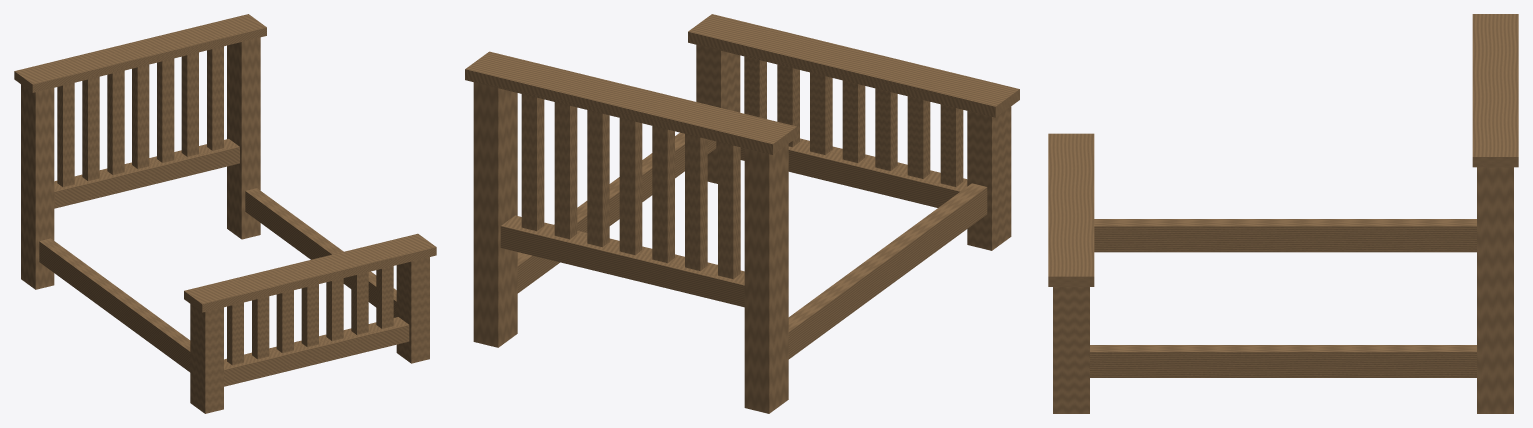
The picture shows the model from 3 angles, left to right: view 1: azimuth 30°, elevation 25°; view 2: azimuth 150°, elevation 25°; view 3: azimuth 270°, elevation 25°; orthographic projection. The views are drawn at different scales.
Parts seen in each view (by area): view 1: 14 footboard_top_cap, 3 headboard_top_cap, 1 headboard_left_post, 2 headboard_right_post, 23 left_side_rail, 4 headboard_bottom_rail, 15 footboard_bottom_rail, 12 footboard_left_post, 24 right_side_rail, 13 footboard_right_post, 7 headboard_slat_3, 9 headboard_slat_5 (+12 smaller); view 2: 1 headboard_left_post, 14 footboard_top_cap, 3 headboard_top_cap, 2 headboard_right_post, 23 left_side_rail, 4 headboard_bottom_rail, 12 footboard_left_post, 15 footboard_bottom_rail, 8 headboard_slat_4, 11 headboard_slat_7, 10 headboard_slat_6, 7 headboard_slat_3 (+12 smaller); view 3: 23 left_side_rail, 24 right_side_rail, 2 headboard_right_post, 3 headboard_top_cap, 14 footboard_top_cap, 13 footboard_right_post.
Boxes of the visible parts, x1=… form: 14 footboard_top_cap: x1=184, y1=233, x2=436, y2=312; 3 headboard_top_cap: x1=14, y1=14, x2=266, y2=92; 1 headboard_left_post: x1=21, y1=84, x2=54, y2=289; 2 headboard_right_post: x1=227, y1=37, x2=260, y2=239; 23 left_side_rail: x1=39, y1=238, x2=190, y2=372; 4 headboard_bottom_rail: x1=54, y1=139, x2=239, y2=208; 15 footboard_bottom_rail: x1=224, y1=317, x2=409, y2=386; 12 footboard_left_post: x1=190, y1=304, x2=223, y2=413; 24 right_side_rail: x1=245, y1=188, x2=396, y2=317; 13 footboard_right_post: x1=396, y1=257, x2=429, y2=363; 7 headboard_slat_3: x1=107, y1=70, x2=124, y2=174; 9 headboard_slat_5: x1=157, y1=58, x2=174, y2=162; 1 headboard_left_post: x1=744, y1=144, x2=788, y2=413; 14 footboard_top_cap: x1=688, y1=14, x2=1019, y2=117; 3 headboard_top_cap: x1=465, y1=51, x2=796, y2=154; 2 headboard_right_post: x1=473, y1=82, x2=517, y2=347; 23 left_side_rail: x1=788, y1=183, x2=987, y2=359; 4 headboard_bottom_rail: x1=500, y1=215, x2=744, y2=307; 12 footboard_left_post: x1=967, y1=106, x2=1011, y2=250; 15 footboard_bottom_rail: x1=740, y1=138, x2=967, y2=207; 8 headboard_slat_4: x1=619, y1=118, x2=642, y2=254; 11 headboard_slat_7: x1=521, y1=94, x2=544, y2=231; 10 headboard_slat_6: x1=554, y1=102, x2=577, y2=239; 7 headboard_slat_3: x1=652, y1=126, x2=674, y2=263; 23 left_side_rail: x1=1094, y1=219, x2=1476, y2=252; 24 right_side_rail: x1=1090, y1=345, x2=1476, y2=377; 2 headboard_right_post: x1=1477, y1=167, x2=1513, y2=413; 3 headboard_top_cap: x1=1472, y1=14, x2=1518, y2=167; 14 footboard_top_cap: x1=1048, y1=133, x2=1094, y2=286; 13 footboard_right_post: x1=1053, y1=287, x2=1089, y2=413.
Bounding box in the file's own units: 1.18 × 1 × 1.64.
1 material, 1 textured.
